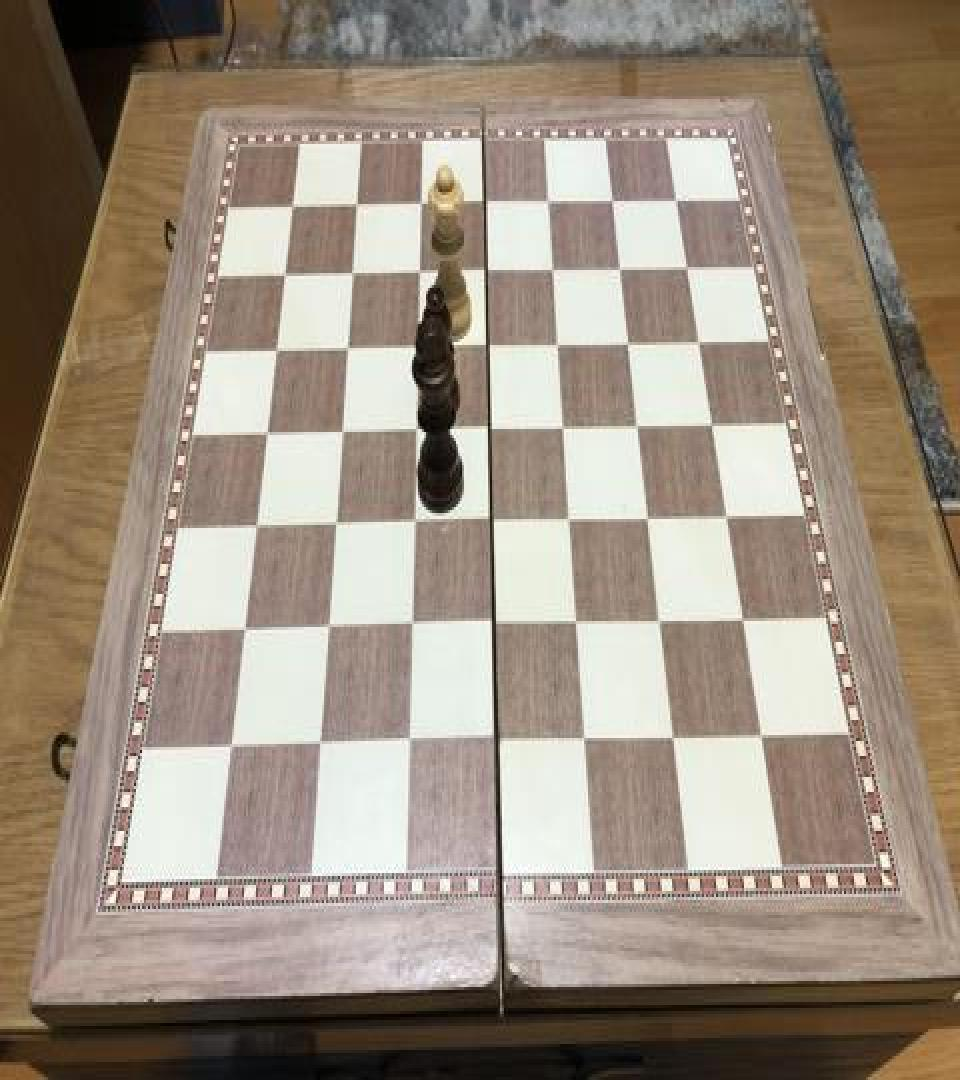xcorner: (730, 595, 754, 632), (232, 610, 256, 647), (662, 178, 686, 214), (598, 180, 622, 216), (535, 182, 559, 218), (472, 183, 496, 219), (408, 184, 432, 220), (280, 189, 304, 225), (673, 244, 697, 280), (606, 248, 630, 284), (540, 249, 564, 285), (473, 250, 497, 286), (406, 252, 430, 288), (340, 255, 364, 291), (273, 256, 297, 292), (685, 320, 709, 356), (615, 321, 639, 357), (545, 322, 569, 358), (475, 326, 499, 362), (405, 327, 429, 363), (264, 332, 288, 368), (698, 400, 722, 436), (625, 404, 649, 440), (551, 405, 575, 441), (477, 408, 501, 444), (403, 410, 427, 446), (254, 414, 278, 450), (713, 492, 737, 528), (635, 495, 659, 531), (557, 496, 581, 532), (479, 500, 503, 536), (401, 502, 425, 538), (322, 504, 346, 540), (244, 507, 268, 543), (647, 597, 671, 633), (564, 600, 588, 636), (481, 603, 505, 639), (398, 606, 422, 642), (315, 608, 339, 644), (749, 711, 773, 747), (661, 714, 685, 750), (573, 717, 597, 753), (484, 720, 508, 756), (396, 723, 420, 759), (307, 726, 331, 762), (218, 729, 242, 765), (344, 188, 368, 223), (334, 329, 358, 364), (329, 413, 353, 448)
